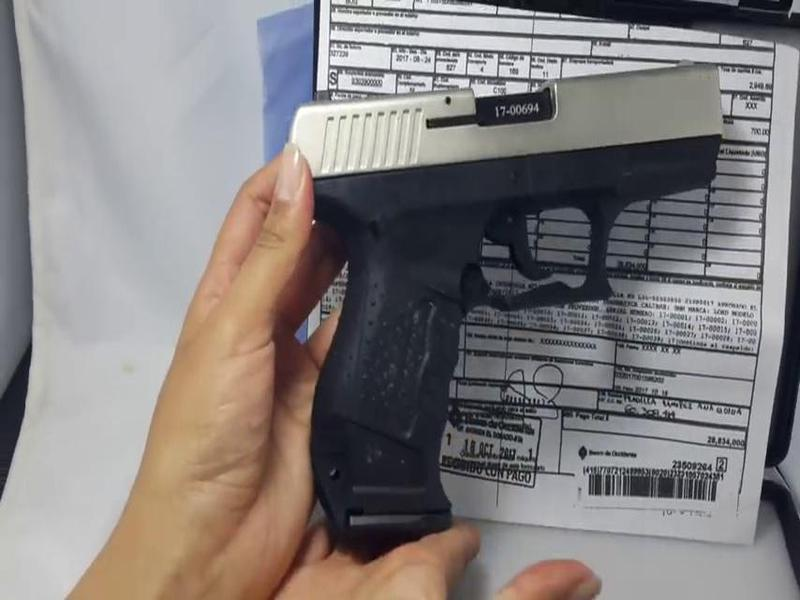Pistola: (269, 52, 737, 562)
